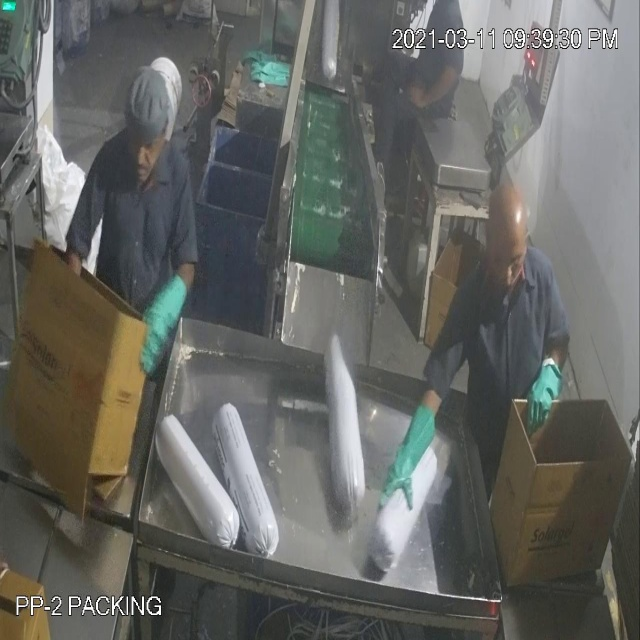Guantes: (125, 275, 192, 365), (380, 411, 434, 504), (519, 358, 572, 435)
